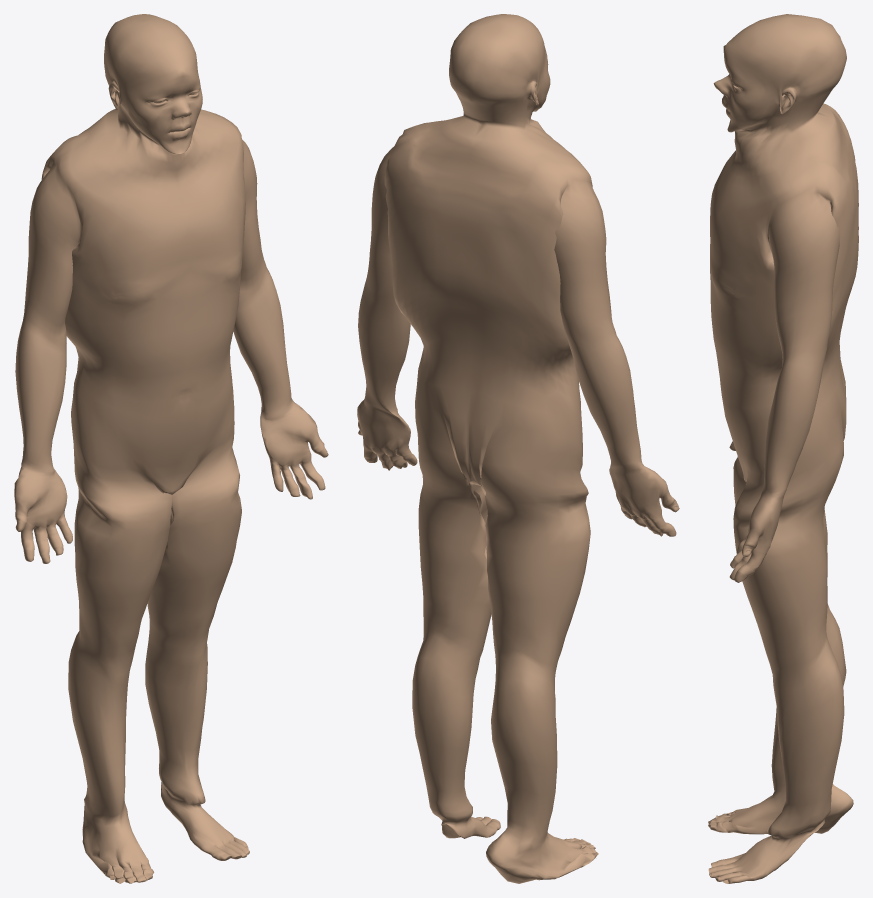
Rendered from skin-candidate-r56p1.glb.
3 renders of one model, left to right at view 1: azimuth 30°, elevation 25°; view 2: azimuth 150°, elevation 25°; view 3: azimuth 270°, elevation 25°, orthographic. The views are drawn at different scales.
Parts seen in each view (by area): view 1: MakeHuman_AT10_skin_fit_candidate_r56p1; view 2: MakeHuman_AT10_skin_fit_candidate_r56p1; view 3: MakeHuman_AT10_skin_fit_candidate_r56p1.
Boxes of the visible parts, <box> form: MakeHuman_AT10_skin_fit_candidate_r56p1: <box>14,14,328,883</box>; MakeHuman_AT10_skin_fit_candidate_r56p1: <box>357,14,679,883</box>; MakeHuman_AT10_skin_fit_candidate_r56p1: <box>708,14,858,883</box>.
Bounding box in the file's own units: 0.6758 × 1.71 × 0.2809.
